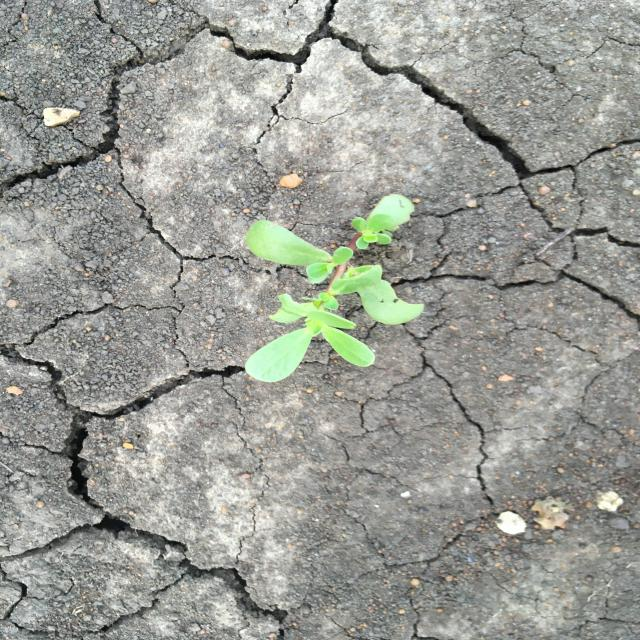Purslane: (242, 192, 430, 385)
